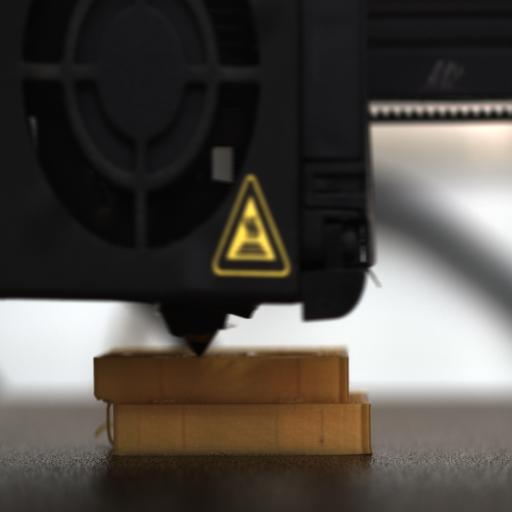layer_shift: (95, 392, 371, 418)
